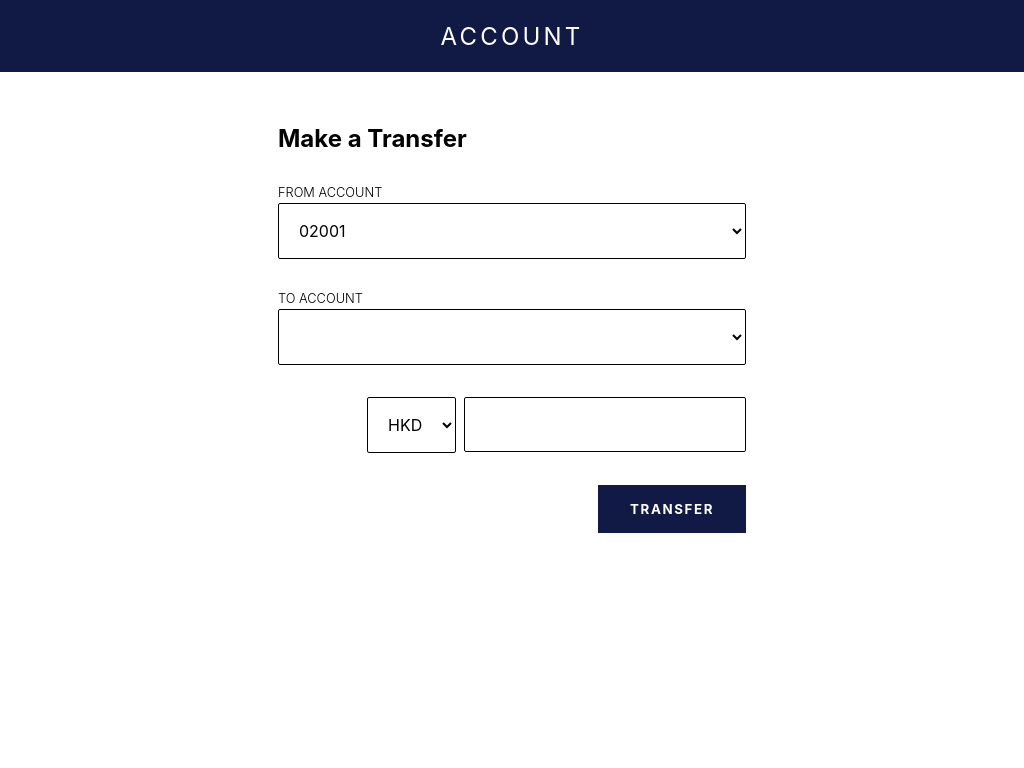
it: transfer route › should report amount field is required when submitting an empty field
This screenshot has width=1024, height=768.
Select "02002" in the dropdown with id "toAccount" at (512, 337), box [278,309,746,365]
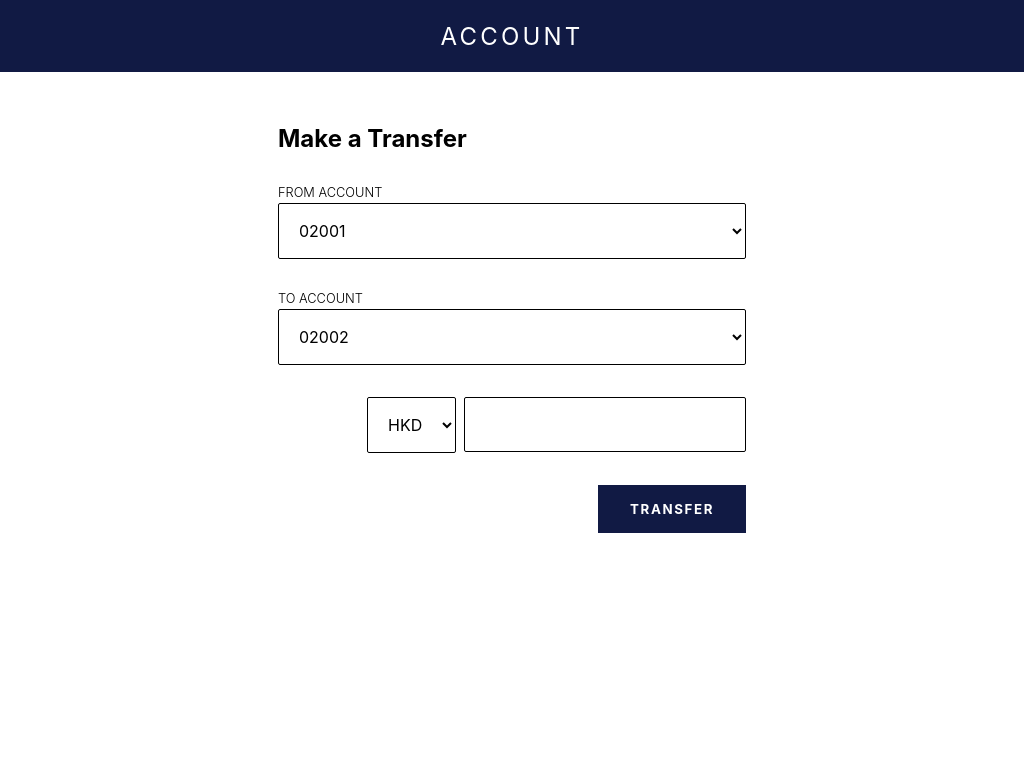
Click the button "Transfer" at (672, 509), box [598,485,746,533]
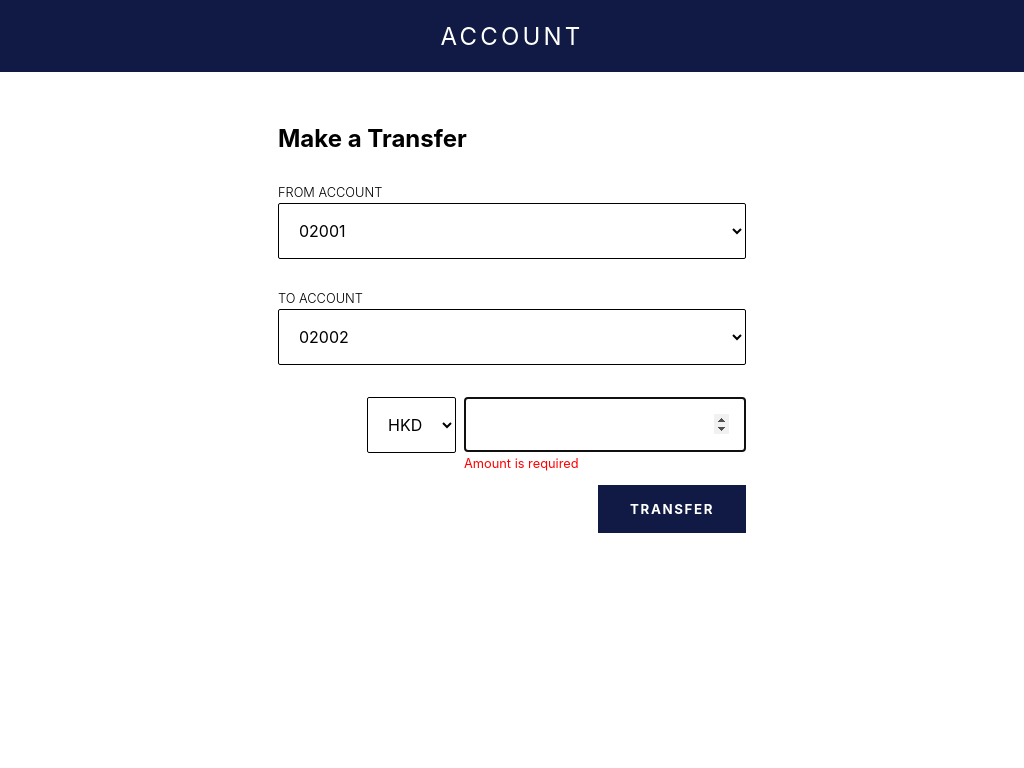
expect the text "Amount is required" is shown: met, box [464,456,579,472]
